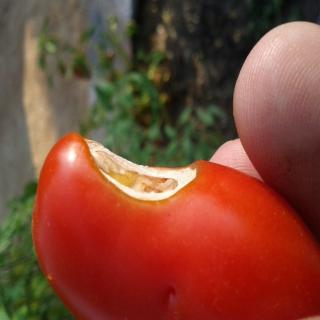tomato: (34, 134, 309, 318)
